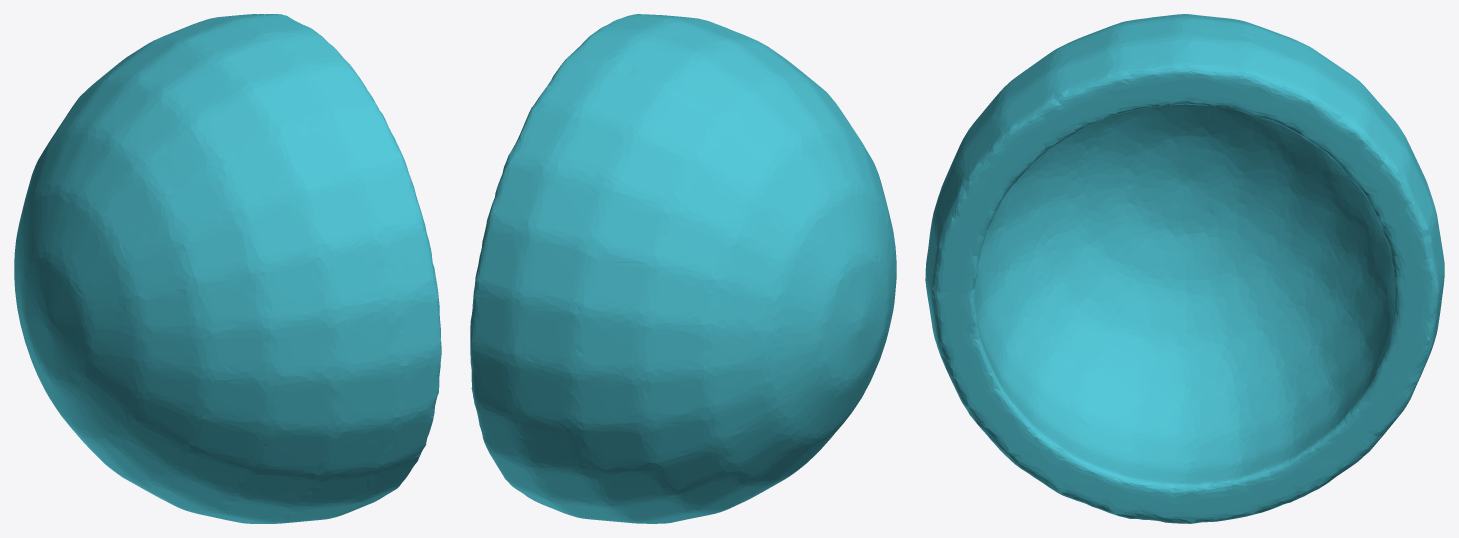
3 renders of one model, left to right at view 1: azimuth 30°, elevation 25°; view 2: azimuth 150°, elevation 25°; view 3: azimuth 270°, elevation 25°, orthographic.
Parts seen in each view (by area): view 1: Renderer Node; view 2: Renderer Node; view 3: Renderer Node.
Part boxes in pixels (box(x1,y1,x2,y2)): Renderer Node: box(14, 14, 441, 523); Renderer Node: box(470, 14, 896, 523); Renderer Node: box(925, 14, 1444, 523).
Size of the model in its own units: 0.3928 by 0.6453 by 0.6456.
Materials: 1 (1 with a texture image).
